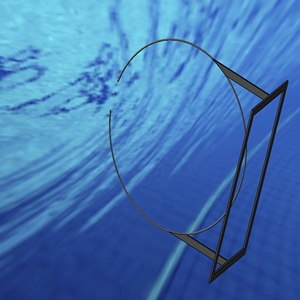circle: (106, 35, 289, 282)
